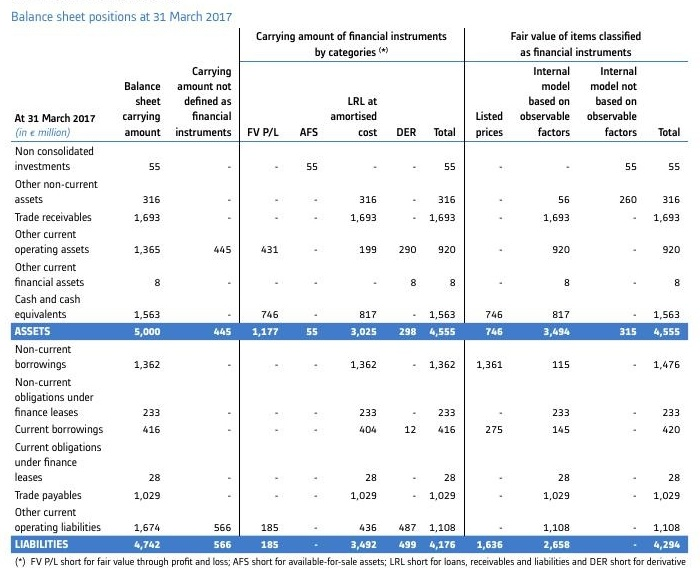table: (0, 0, 700, 568)
